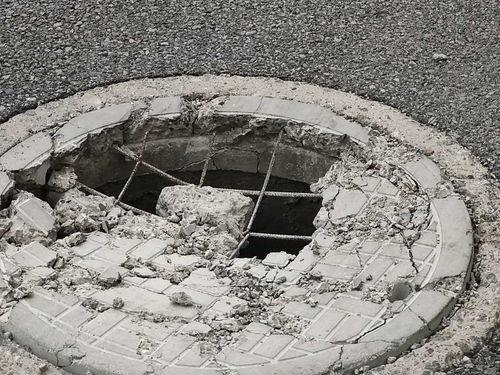wellcover: (0, 88, 480, 375)
